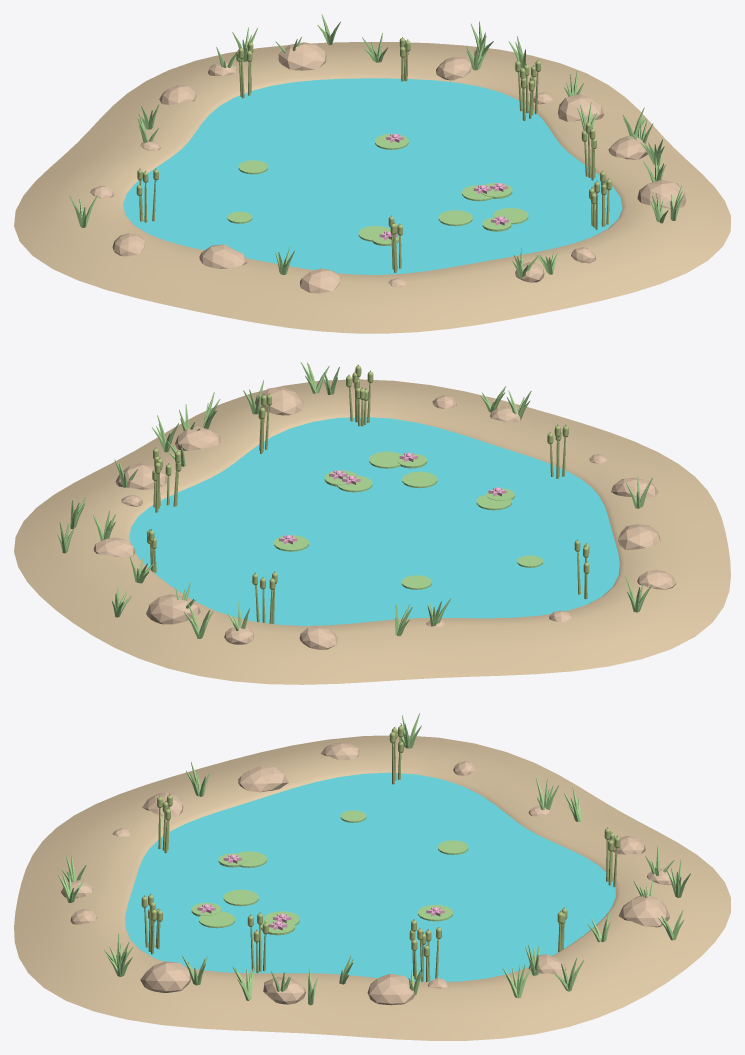
Rendered from SandOasis.glb.
The picture shows the model from 3 angles, top to bottom: view 1: azimuth 30°, elevation 25°; view 2: azimuth 150°, elevation 25°; view 3: azimuth 270°, elevation 25°; orthographic projection. The views are drawn at different scales.
Visible parts, largest first — view 1: Bank, Water, Rock, Grass, Reed, Lily; view 2: Bank, Water, Rock, Grass, Reed, Lily; view 3: Bank, Water, Grass, Rock, Reed, Lily.
Part boxes in pixels (bbox=[...]): Bank: bbox=[14, 42, 730, 333]; Water: bbox=[123, 78, 622, 274]; Rock: bbox=[90, 42, 686, 293]; Grass: bbox=[69, 14, 684, 278]; Reed: bbox=[136, 37, 611, 272]; Lily: bbox=[379, 134, 508, 240]; Bank: bbox=[14, 379, 730, 684]; Water: bbox=[129, 417, 619, 625]; Rock: bbox=[93, 387, 676, 649]; Grass: bbox=[57, 362, 652, 638]; Reed: bbox=[147, 364, 589, 623]; Lily: bbox=[279, 452, 506, 544]; Bank: bbox=[14, 735, 730, 1040]; Water: bbox=[125, 772, 615, 981]; Grass: bbox=[58, 713, 690, 1005]; Rock: bbox=[61, 742, 676, 1005]; Reed: bbox=[141, 725, 620, 981]; Lily: bbox=[197, 854, 444, 930].
Bounding box in the file's own units: 58.85 × 6.33 × 58.32.
